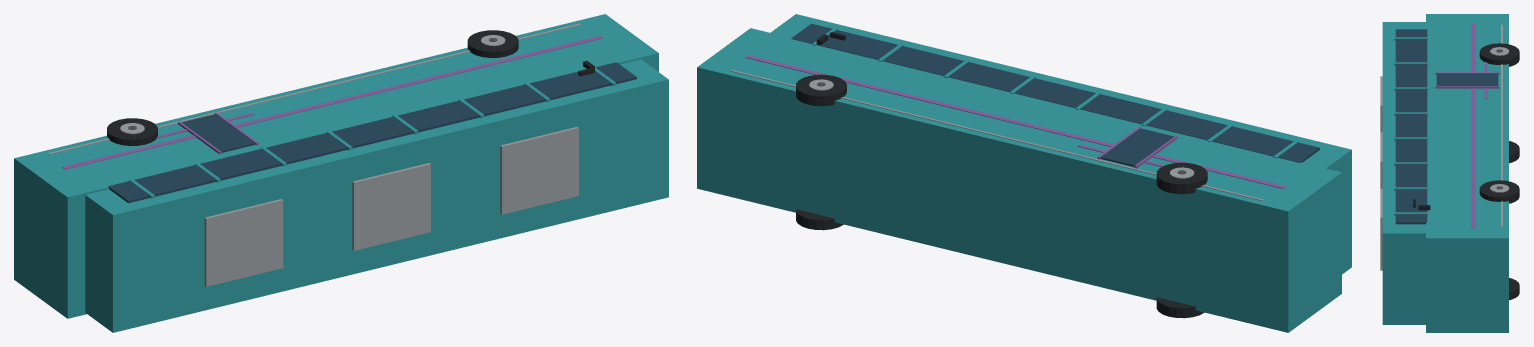
File: RM_Bus_10.glb
3 views of the same model, side by side, from view 1: azimuth 30°, elevation 25°; view 2: azimuth 150°, elevation 25°; view 3: azimuth 270°, elevation 25° (orthographic). The views are drawn at different scales.
Parts seen in each view (by area): view 1: part_001, part_000, part_002, part_037, part_038, part_039, part_013, part_040, part_014, part_030, part_024; view 2: part_000, part_002, part_001, part_013, part_040, part_024, part_030, part_014, part_021, part_027; view 3: part_000, part_001, part_002, part_013, part_040, part_030, part_024, part_014, part_039, part_027, part_021, part_042 (+5 smaller).
Boxes of the visible parts, <box> form: part_001: <box>85,59,668,332</box>; part_000: <box>14,14,658,318</box>; part_002: <box>108,62,636,203</box>; part_037: <box>204,199,283,286</box>; part_038: <box>352,163,430,250</box>; part_039: <box>500,127,578,214</box>; part_013: <box>62,35,602,169</box>; part_040: <box>181,114,254,152</box>; part_014: <box>47,23,580,154</box>; part_030: <box>467,30,518,57</box>; part_024: <box>107,118,157,145</box>; part_000: <box>697,28,1341,332</box>; part_002: <box>791,23,1319,162</box>; part_001: <box>770,14,1351,274</box>; part_013: <box>745,55,1286,188</box>; part_040: <box>1101,128,1174,166</box>; part_024: <box>1156,162,1207,194</box>; part_030: <box>796,74,846,106</box>; part_014: <box>730,70,1263,201</box>; part_021: <box>1156,297,1204,318</box>; part_027: <box>796,209,843,230</box>; part_000: <box>1426,14,1508,332</box>; part_001: <box>1382,22,1425,324</box>; part_002: <box>1395,29,1427,224</box>; part_013: <box>1471,23,1475,228</box>; part_040: <box>1436,73,1498,86</box>; part_030: <box>1479,180,1519,203</box>; part_024: <box>1479,43,1519,66</box>; part_014: <box>1501,24,1502,227</box>; part_039: <box>1380,188,1382,270</box>; part_027: <box>1509,278,1519,300</box>; part_021: <box>1509,141,1519,163</box>; part_042: <box>1435,86,1499,88</box>.
Bounding box in the file's own units: 12.48 × 2.77 × 3.28.
